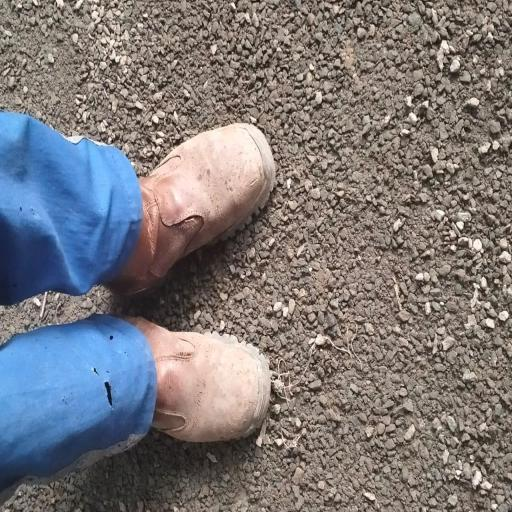safety_shoe: (116, 115, 284, 284), (114, 305, 278, 461)
